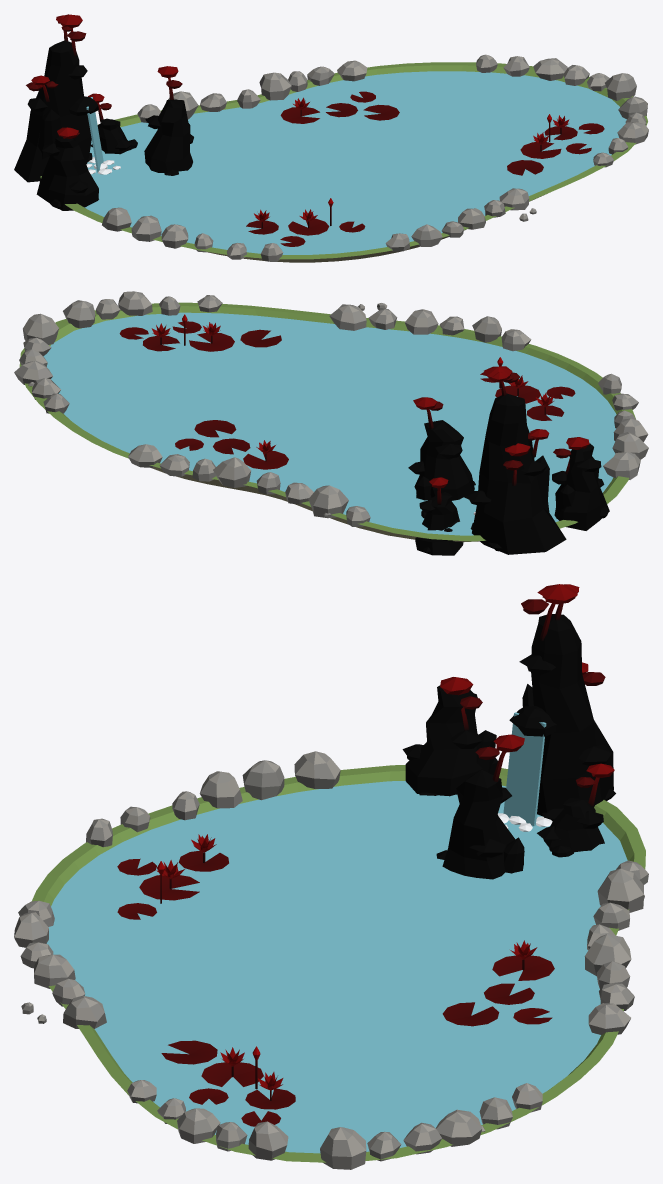
File: koi_pond.high.glb
3 renders of one model, top to bottom at view 1: azimuth 30°, elevation 25°; view 2: azimuth 150°, elevation 25°; view 3: azimuth 270°, elevation 25°, orthographic. The views are drawn at different scales.
Visible parts, largest first — view 1: WATER_surface, Rockery, Pond_stones, Lotus, Pond_bank, WATER_waterfall_sheet; view 2: WATER_surface, Rockery, Pond_stones, Pond_bank, Lotus; view 3: WATER_surface, Rockery, Pond_stones, Lotus, Pond_bank, WATER_waterfall_sheet.
Part boxes in pixels (x1=…): WATER_surface: x1=84, y1=71, x2=626, y2=254; Rockery: x1=14, y1=14, x2=193, y2=210; Pond_stones: x1=102, y1=54, x2=648, y2=261; Lotus: x1=246, y1=91, x2=604, y2=246; Pond_bank: x1=40, y1=62, x2=647, y2=262; WATER_waterfall_sheet: x1=86, y1=97, x2=103, y2=172; WATER_surface: x1=43, y1=312, x2=616, y2=535; Rockery: x1=408, y1=366, x2=609, y2=555; Pond_stones: x1=14, y1=291, x2=648, y2=526; Pond_bank: x1=19, y1=302, x2=635, y2=542; Lotus: x1=119, y1=314, x2=575, y2=469; WATER_surface: x1=46, y1=781, x2=627, y2=1153; Rockery: x1=402, y1=584, x2=615, y2=879; Pond_stones: x1=14, y1=751, x2=648, y2=1169; Lotus: x1=117, y1=834, x2=554, y2=1126; Pond_bank: x1=32, y1=765, x2=645, y2=1162; WATER_waterfall_sheet: x1=503, y1=712, x2=546, y2=826.
Size of the model in its own units: 10.17 by 3.16 by 6.66.
